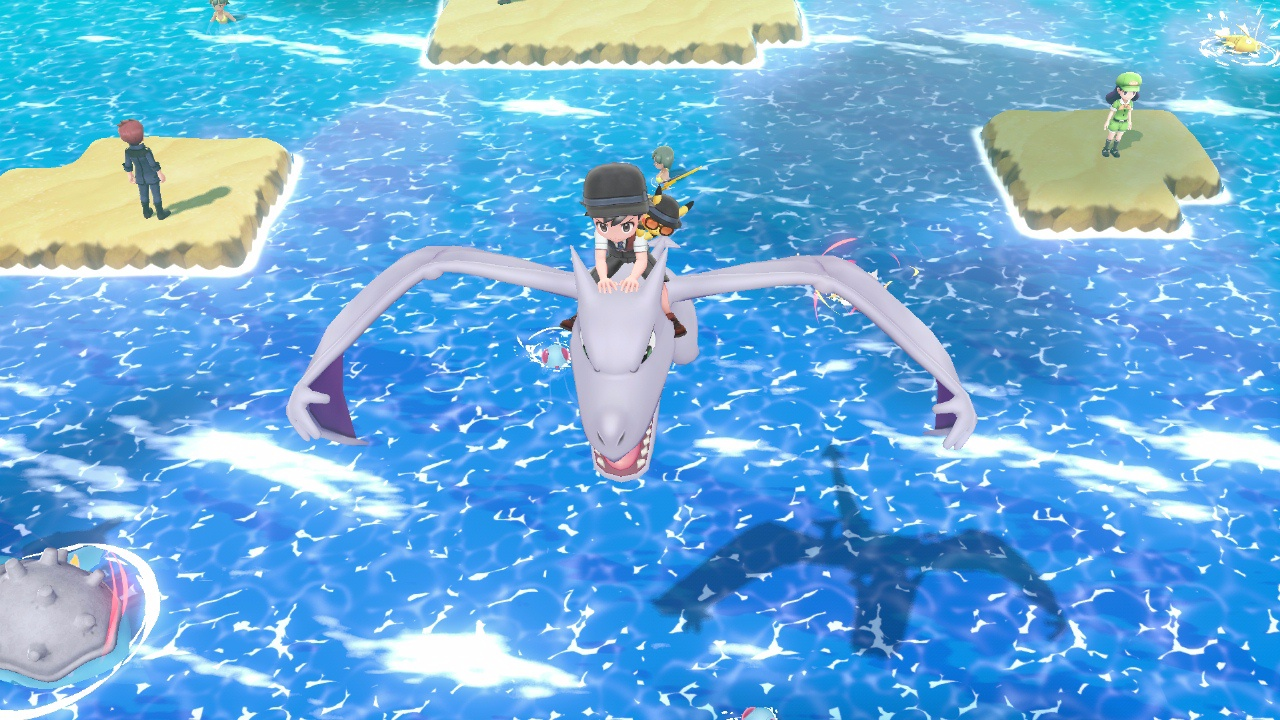Golden: (1221, 32, 1261, 56)
